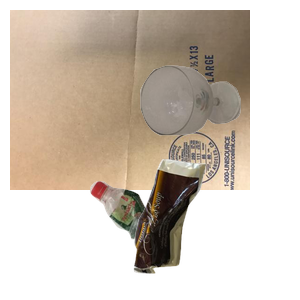cardboard: (10, 10, 250, 190)
glass: (138, 63, 300, 191)
plastic: (87, 178, 234, 300)
trash: (131, 157, 300, 300)
